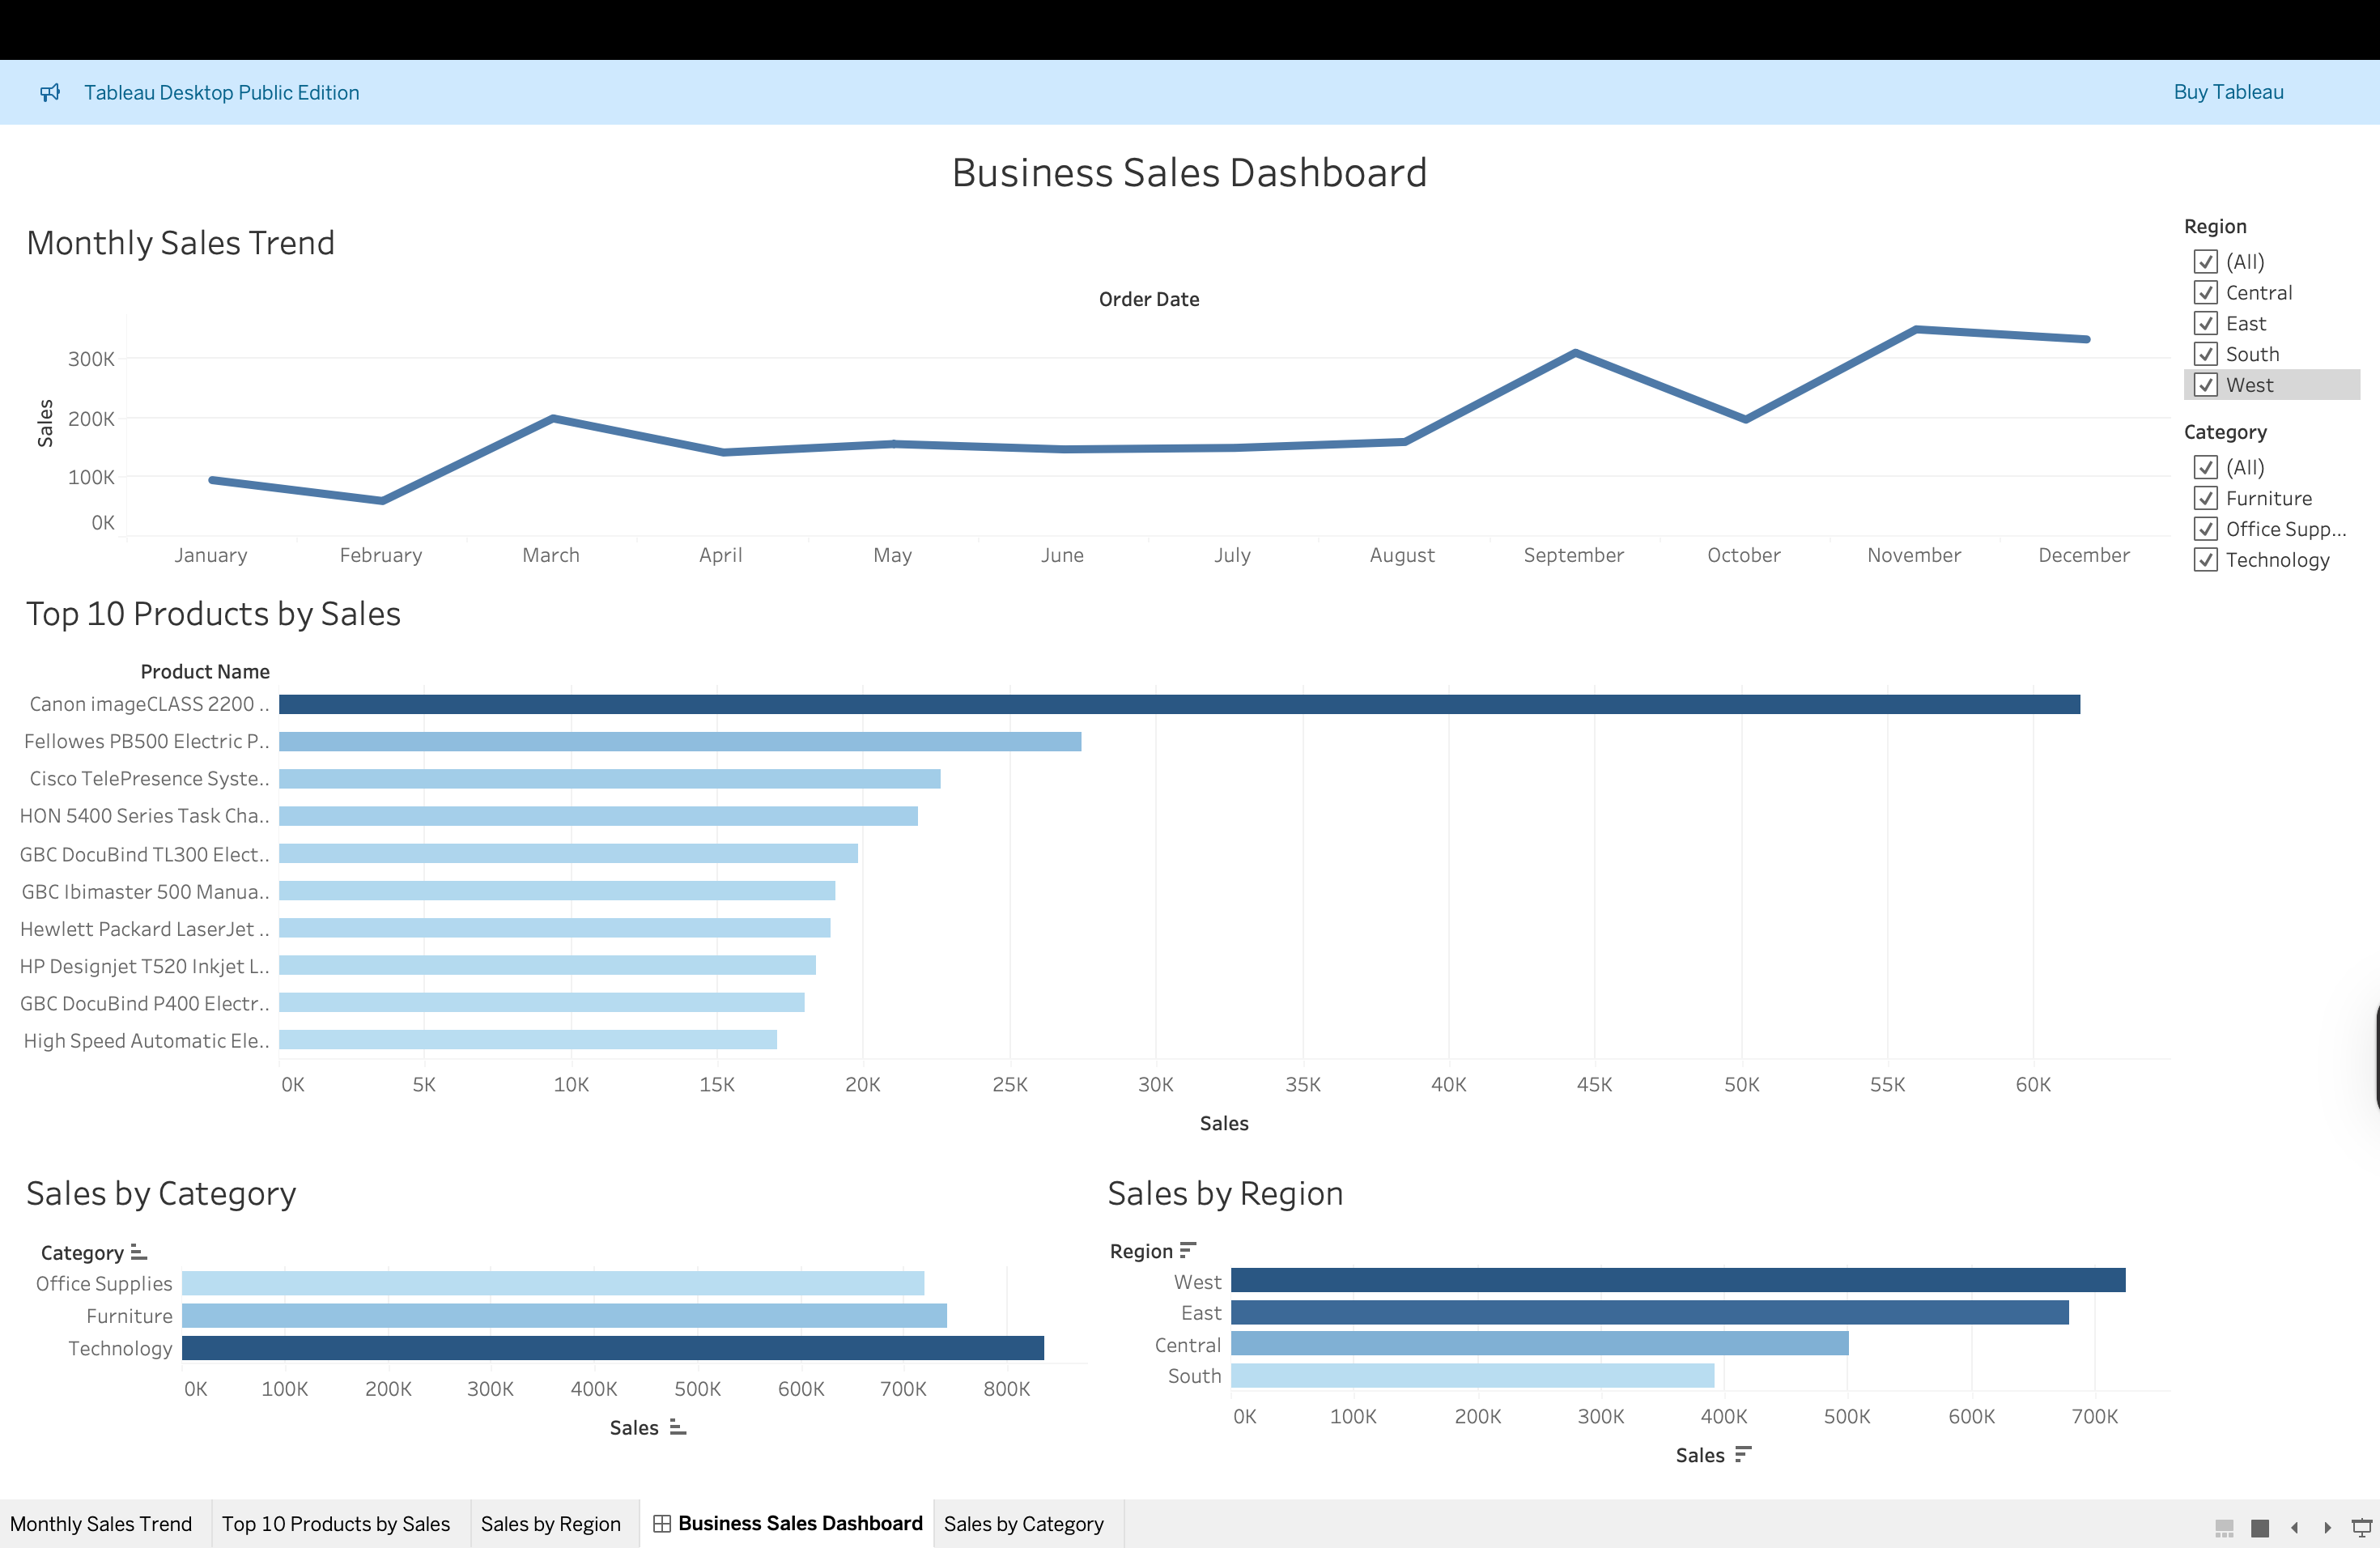

The dashboard page shown, as its layout file describes it:
{"tool":"tableau","page":{"name":"Business Sales Dashboard","canvas":[1000,1000],"units":"permille","ordinal":0},"visuals":[{"type":"title","box":[10.5,11.7,978.9,52.7]},{"type":"worksheet","title":"Monthly Sales Trend","mark":"Automatic","rows":["Sales"],"cols":["Order Date"],"box":[10.5,64.4,825,267.9]},{"type":"filter","title":"Sales by Region","param":"[federated.1ldnj430v75o6j10bnwn818czmzn].[none:Region:nk]","box":[835.5,64.4,154,185.9]},{"type":"filter","title":"Sales by Category","param":"[federated.1ldnj430v75o6j10bnwn818czmzn].[none:Category:nk]","box":[835.5,250.4,154,158.1]},{"type":"worksheet","title":"Top 10 Products by Sales","mark":"Automatic","rows":["Product Name"],"cols":["Sales"],"box":[10.5,332.3,825,417.3]},{"type":"worksheet","title":"Sales by Category","mark":"Automatic","rows":["Category"],"cols":["Sales"],"box":[10.5,749.6,412.3,238.7]},{"type":"worksheet","title":"Sales by Region","mark":"Bar","rows":["Region"],"cols":["Sales"],"box":[422.8,749.6,412.7,238.7]}]}

Visuals, with their boxes on the dashboard's canvas, which has no fixed pixel size, in thousandths of its width and height (x1, y1, x2, y2). These are canvas units, not pixel positions in the 2380x1548 screenshot, which may show the page scaled, cropped or inside an application window:
title: l=10, t=12, r=989, b=64
"Monthly Sales Trend" worksheet: l=10, t=64, r=836, b=332
"Sales by Region" filter: l=836, t=64, r=990, b=250
"Sales by Category" filter: l=836, t=250, r=990, b=408
"Top 10 Products by Sales" worksheet: l=10, t=332, r=836, b=750
"Sales by Category" worksheet: l=10, t=750, r=423, b=988
"Sales by Region" worksheet (Bar marks): l=423, t=750, r=836, b=988
